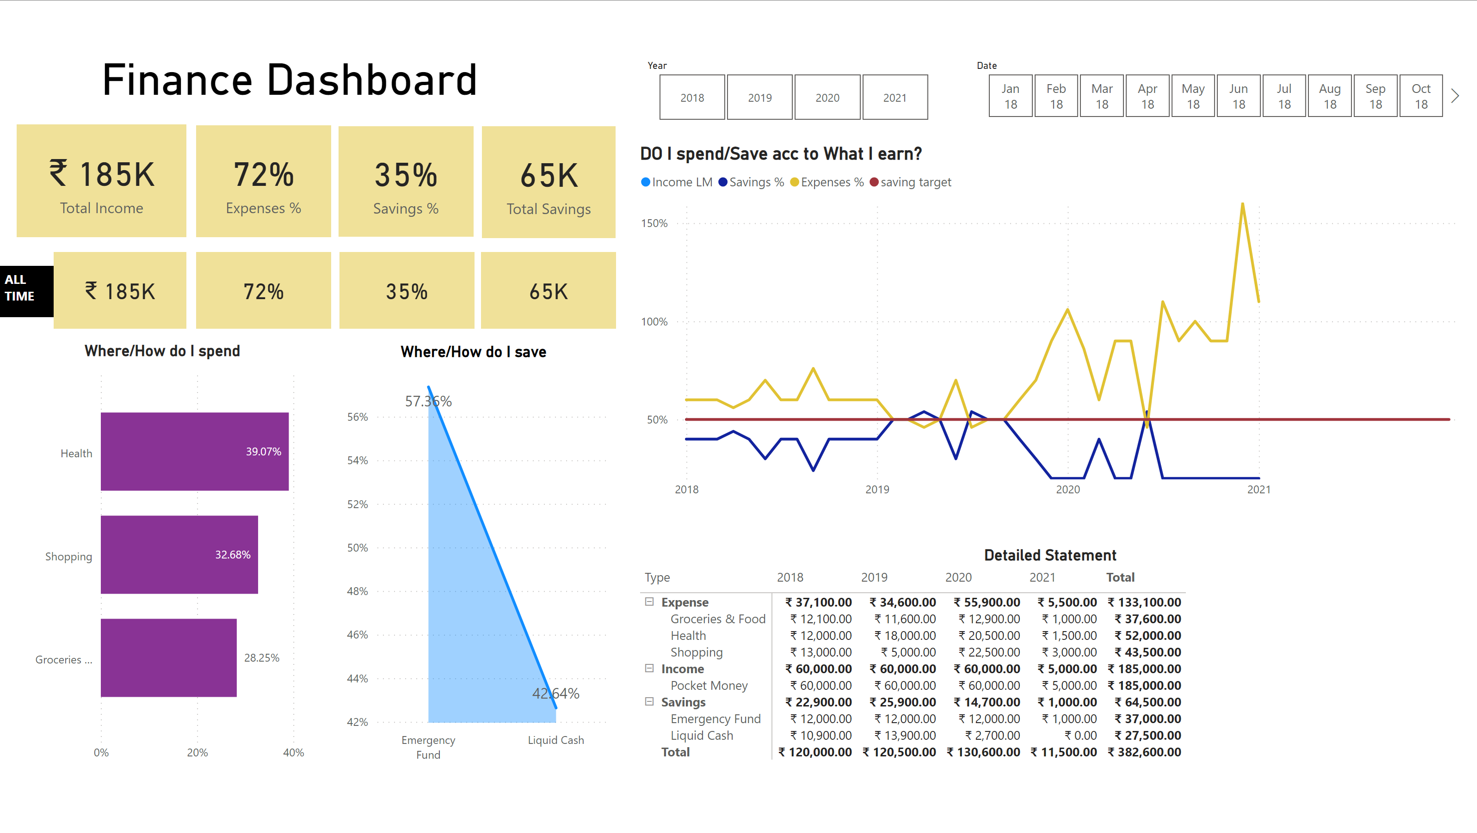

What the dashboard file says about the page in this screenshot:
{"tool":"powerbi","page":{"name":"Page 1","canvas":[1600,800],"ordinal":0},"visuals":[{"type":"card","fields":{"Values":["key measures (2).Total Income"]},"box":[17.8,87.7,183.7,122.1],"z":0},{"type":"card","fields":{"Values":["key measures (2).Total Savings"]},"box":[521.5,90.1,144.6,120.9],"z":1000},{"type":"card","fields":{"Values":["key measures (2).Expenses %"]},"box":[212.1,88.9,145.8,120.9],"z":2000},{"type":"card","fields":{"Values":["key measures (2).Savings %"]},"box":[366.2,90.1,145.8,119.7],"z":3000},{"type":"slicer","fields":{"Values":["MonthlyData.Year"]},"box":[686.5,13.1,340.4,77.1],"z":4000},{"type":"slicer","fields":{"Values":["MonthlyData.Date"]},"box":[1042.9,13.1,541.1,74.2],"z":5000},{"type":"card","fields":{"Values":["key measures (2).Total Income"]},"box":[58.1,226.4,143.4,83],"z":6000},{"type":"card","fields":{"Values":["key measures (2).Total Savings"]},"box":[520.3,226.4,145.8,83],"z":7000},{"type":"card","fields":{"Values":["key measures (2).Expenses %"]},"box":[212.1,226.4,145.8,83],"z":8000},{"type":"card","fields":{"Values":["key measures (2).Savings %"]},"box":[367.4,226.4,145.8,83],"z":9000},{"type":"textbox","box":[0,240.6,58.1,55.7],"z":10000},{"type":"card","fields":{"Values":["key measures (2).Title"]},"box":[99.6,0,426.7,66.4],"z":11000},{"type":"barChart","title":"Where/How do I spend","fields":{"Category":["MonthlyData.Component"],"Y":["key measures (2).Total Expenses"]},"box":[17.5,322.9,317.1,462.5],"z":12000},{"type":"areaChart","title":"Where/How do I save","fields":{"Category":["MonthlyData.Component"],"Y":["Divide(key measures (2).Total Savings, ScopedEval(key measures (2).Total Savings, []))"]},"box":[357.8,324.4,308.4,461.1],"z":13000},{"type":"lineChart","title":"DO I spend/Save acc to What I earn?","fields":{"Y":["key measures (2).Income LM","key measures (2).Savings %","key measures (2).Expenses %","key measures (2).saving target"],"Category":["MonthlyData.Date.Variation.Date Hierarchy.Year","MonthlyData.Date.Variation.Date Hierarchy.Quarter","MonthlyData.Date.Variation.Date Hierarchy.Month","MonthlyData.Date.Variation.Date Hierarchy.Day"]},"box":[686.5,107.6,897.5,392.7],"z":14000},{"type":"pivotTable","title":"Detailed Statement","fields":{"Columns":["MonthlyData.Year","MonthlyData.Date.Variation.Date Hierarchy.Year","MonthlyData.Date.Variation.Date Hierarchy.Quarter","MonthlyData.Date.Variation.Date Hierarchy.Month","MonthlyData.Date.Variation.Date Hierarchy.Day"],"Rows":["Type.Type","MonthlyData.Component"],"Values":["Sum(MonthlyData.Value)"]},"box":[686.5,544,897.5,241.5],"z":15000}]}

Visuals, with their boxes on the page's 1600x800 design canvas (x1, y1, x2, y2). These are canvas units, not pixel positions in the 1477x833 screenshot, which may show the page scaled, cropped or inside an application window:
card - key measures (2).Total Income: pyautogui.locateOnScreen(18, 88, 202, 210)
card - key measures (2).Total Savings: pyautogui.locateOnScreen(522, 90, 666, 211)
card - key measures (2).Expenses %: pyautogui.locateOnScreen(212, 89, 358, 210)
card - key measures (2).Savings %: pyautogui.locateOnScreen(366, 90, 512, 210)
slicer - MonthlyData.Year: pyautogui.locateOnScreen(686, 13, 1027, 90)
slicer - MonthlyData.Date: pyautogui.locateOnScreen(1043, 13, 1584, 87)
card - key measures (2).Total Income: pyautogui.locateOnScreen(58, 226, 202, 309)
card - key measures (2).Total Savings: pyautogui.locateOnScreen(520, 226, 666, 309)
card - key measures (2).Expenses %: pyautogui.locateOnScreen(212, 226, 358, 309)
card - key measures (2).Savings %: pyautogui.locateOnScreen(367, 226, 513, 309)
textbox: pyautogui.locateOnScreen(0, 241, 58, 296)
card - key measures (2).Title: pyautogui.locateOnScreen(100, 0, 526, 66)
"Where/How do I spend" barChart: pyautogui.locateOnScreen(18, 323, 335, 785)
"Where/How do I save" areaChart: pyautogui.locateOnScreen(358, 324, 666, 786)
"DO I spend/Save acc to What I earn?" lineChart: pyautogui.locateOnScreen(686, 108, 1584, 500)
"Detailed Statement" pivotTable: pyautogui.locateOnScreen(686, 544, 1584, 786)
